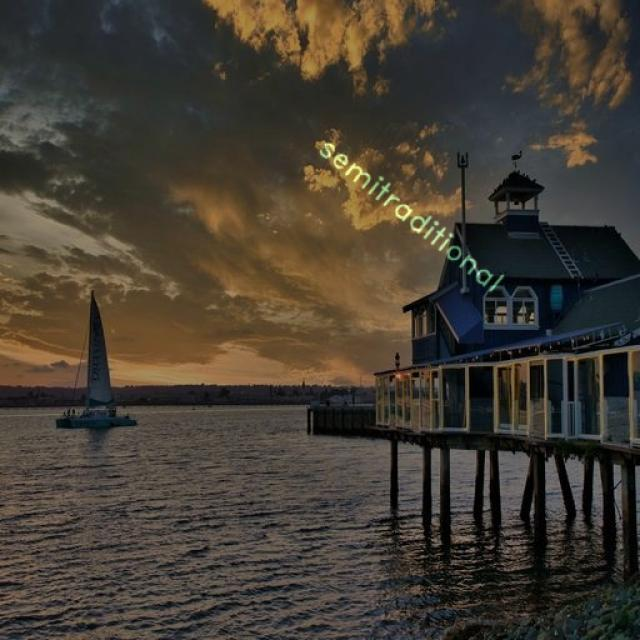watermark: (309, 128, 514, 299)
